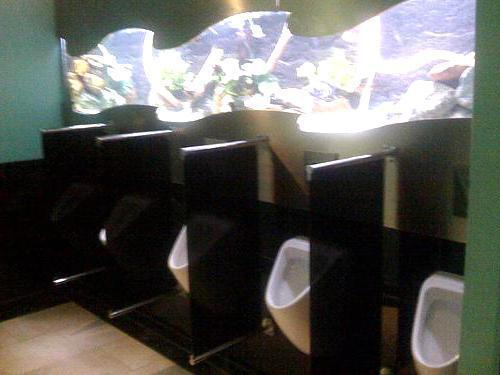Sanitario: (262, 228, 349, 358), (409, 271, 483, 374), (166, 210, 234, 297), (99, 190, 151, 267), (47, 183, 98, 250)
